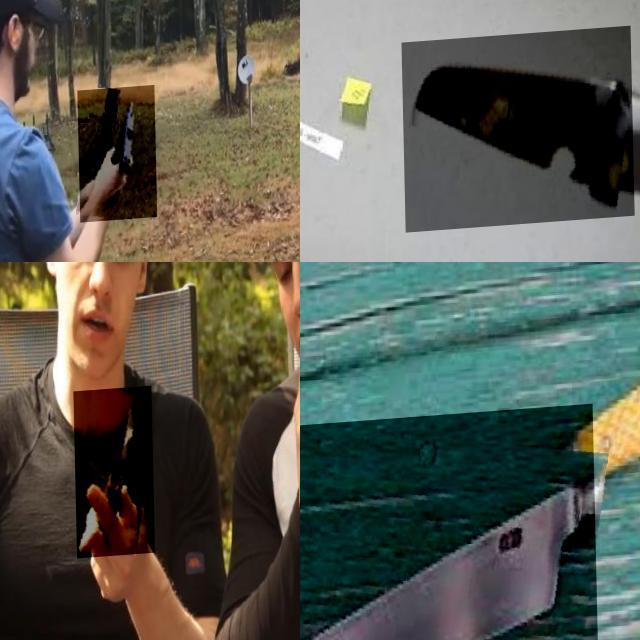-: (300, 410, 599, 640), (400, 34, 632, 236), (72, 389, 153, 561)
gun-knife-thesis - v11 Yolov5 augmented: (76, 89, 155, 224)
